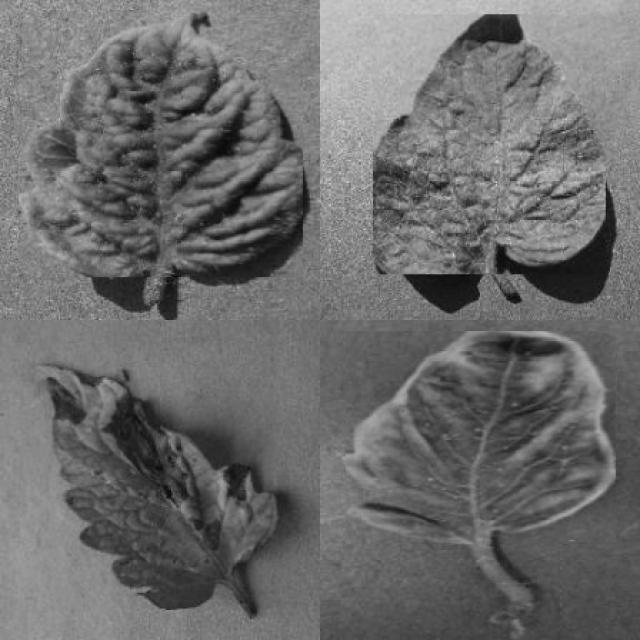Early Blight: (34, 364, 282, 609)
Spider Mites: (373, 14, 606, 275)
Yellow Leaf Curl Virus: (18, 12, 303, 278), (346, 330, 616, 544)
